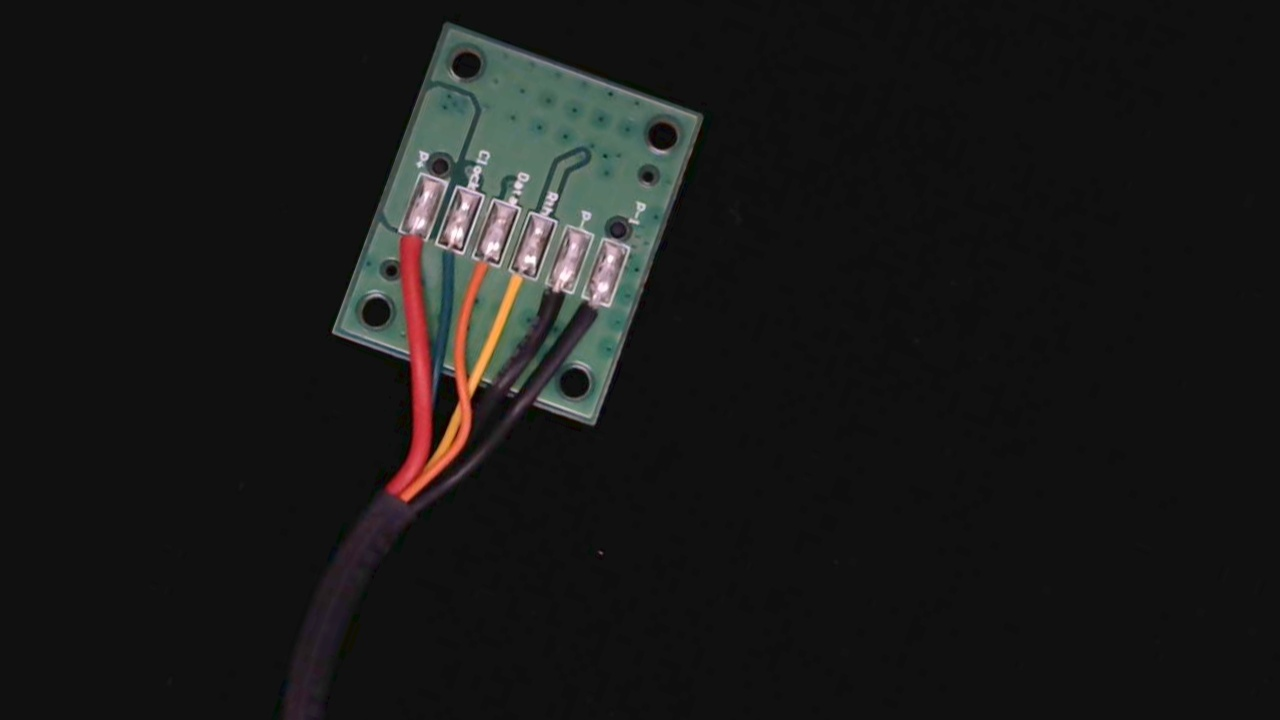Black: (527, 266, 578, 339)
Black1: (567, 280, 615, 346)
Green: (418, 227, 467, 294)
Orange: (455, 240, 502, 308)
Red: (379, 218, 432, 293)
Yellow: (490, 252, 541, 328)
